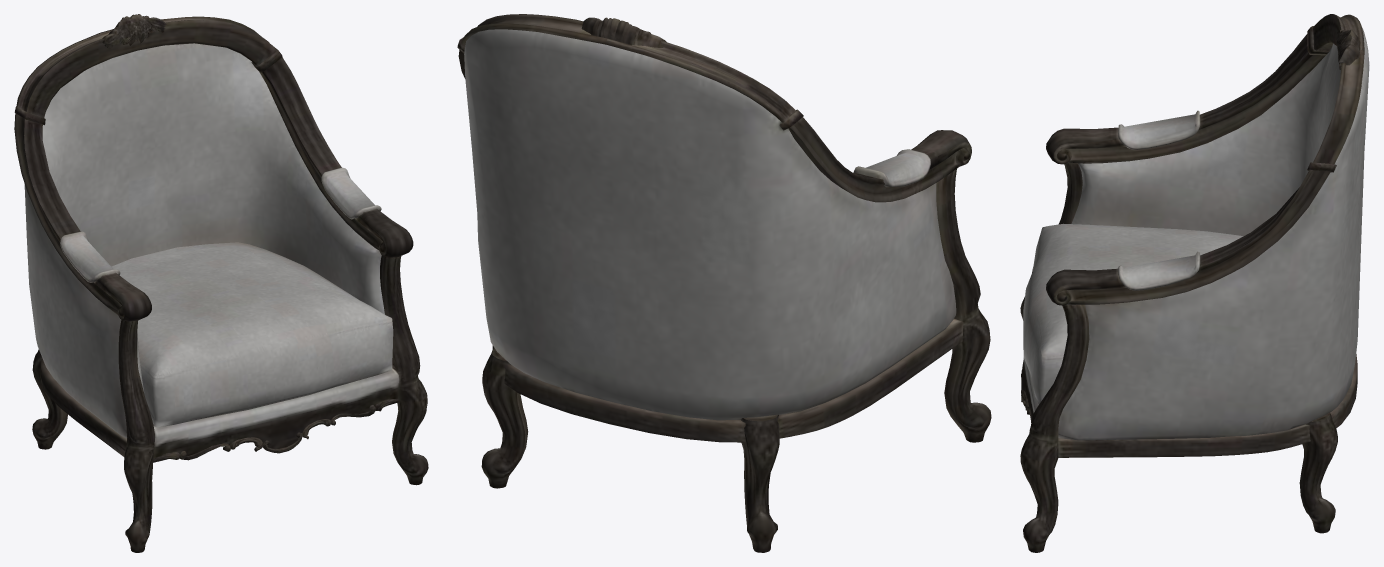
File: ArmChair_01.glb
3 renders of one model, left to right at view 1: azimuth 30°, elevation 25°; view 2: azimuth 150°, elevation 25°; view 3: azimuth 270°, elevation 25°, orthographic. The views are drawn at different scales.
Visible parts, largest first — view 1: Cylinder.001; view 2: Cylinder.001; view 3: Cylinder.001.
Part boxes in pixels (x1,y1,x2,y2): Cylinder.001: (14, 14, 428, 552); Cylinder.001: (457, 14, 991, 552); Cylinder.001: (1020, 14, 1369, 552).
Bounding box in the file's own units: 0.8484 × 1.07 × 0.7658.
Materials: 1 (1 with a texture image).
